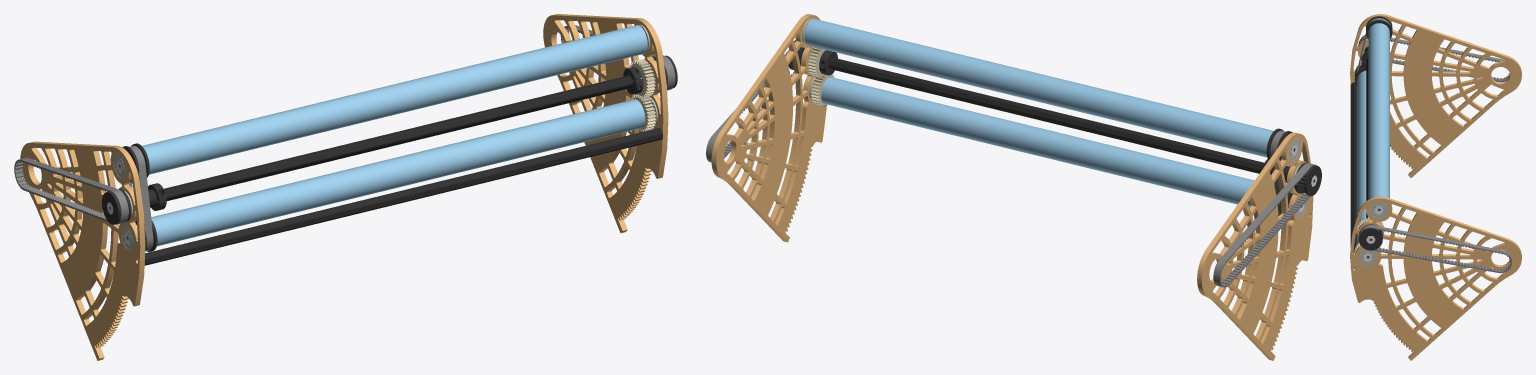
Rendered from Hood zeroed.glb.
3 views of the same model, side by side, from view 1: azimuth 30°, elevation 25°; view 2: azimuth 150°, elevation 25°; view 3: azimuth 270°, elevation 25° (orthographic). The views are drawn at different scales.
Parts seen in each view (by area): view 1: hood (×2), top roller 2, top roller 1, 1/2" Rounded Hex (25.125" L, 13.75mm OD), 1/2" Rounded Hex (27.125" L, 13.75mm OD), 100T HTD Belt, 90T GT2 Belt, 21t HTD 5mm Pulley (0.4" Wide, *0.51" Hex Bore), 30t Aluminum Spur Gear (20 DP, 1/2" Hex Bore); view 2: hood (×2), top roller 2, top roller 1, 1/2" Rounded Hex (27.125" L, 13.75mm OD), 100T HTD Belt, 21t HTD 5mm Pulley (0.4" Wide, *0.51" Hex Bore); view 3: hood (×2), top roller 2, 100T HTD Belt (×2), top roller 1, 1/2" Rounded Hex (25.125" L, 13.75mm OD), 1/2" Rounded Hex (27.125" L, 13.75mm OD), 1/2" Rounded Hex (13.75mm) ID Bearing (1.125" OD, 0.313" WD, (×2), 21t HTD 5mm Pulley (0.4" Wide, *0.51" Hex Bore)-Mirrored, 37t GT2 3mm Pulley (0.4" Wide, *0.51" Hex Bore).
Part boxes in pixels (bbox=[...]): hood (×2): bbox=[20, 14, 668, 360]; top roller 2: bbox=[142, 25, 647, 174]; top roller 1: bbox=[151, 99, 645, 246]; 1/2" Rounded Hex (25.125" L, 13.75mm OD): bbox=[144, 128, 662, 265]; 1/2" Rounded Hex (27.125" L, 13.75mm OD): bbox=[107, 75, 639, 214]; 100T HTD Belt: bbox=[14, 157, 128, 224]; 90T GT2 Belt: bbox=[129, 145, 153, 251]; 21t HTD 5mm Pulley (0.4" Wide, *0.51" Hex Bore): bbox=[102, 189, 131, 224]; 30t Aluminum Spur Gear (20 DP, 1/2" Hex Bore): bbox=[629, 59, 655, 97]; hood (×2): bbox=[711, 14, 1313, 360]; top roller 2: bbox=[804, 18, 1273, 157]; top roller 1: bbox=[821, 77, 1254, 207]; 1/2" Rounded Hex (27.125" L, 13.75mm OD): bbox=[829, 57, 1317, 186]; 100T HTD Belt: bbox=[1213, 163, 1316, 287]; 21t HTD 5mm Pulley (0.4" Wide, *0.51" Hex Bore): bbox=[1294, 163, 1321, 196]; hood (×2): bbox=[1350, 14, 1521, 360]; top roller 2: bbox=[1368, 23, 1389, 199]; 100T HTD Belt (×2): bbox=[1358, 35, 1511, 273]; top roller 1: bbox=[1357, 70, 1366, 244]; 1/2" Rounded Hex (25.125" L, 13.75mm OD): bbox=[1350, 82, 1357, 268]; 1/2" Rounded Hex (27.125" L, 13.75mm OD): bbox=[1366, 58, 1375, 243]; 1/2" Rounded Hex (13.75mm) ID Bearing (1.125" OD, 0.313" WD, (×2): bbox=[1358, 201, 1388, 265]; 21t HTD 5mm Pulley (0.4" Wide, *0.51" Hex Bore)-Mirrored: bbox=[1359, 224, 1382, 250]; 37t GT2 3mm Pulley (0.4" Wide, *0.51" Hex Bore): bbox=[1366, 16, 1392, 39].
Size of the model in its own units: 0.689 by 0.268 by 0.2564.
